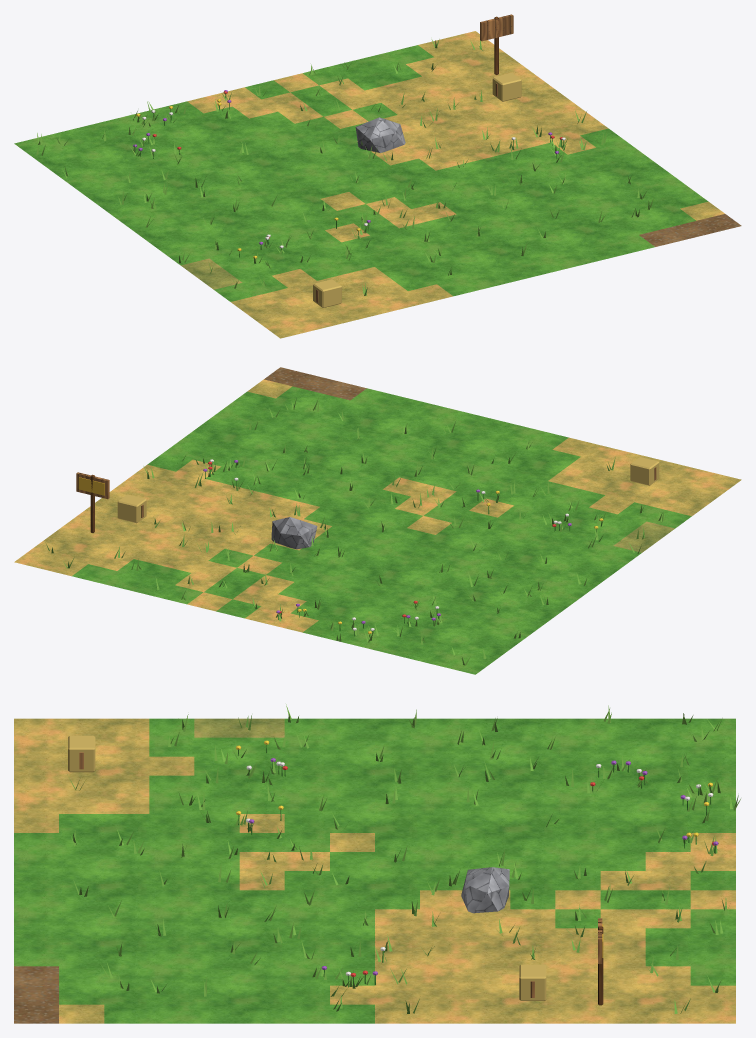
Rendered from chunk_8_10.glb.
The picture shows the model from 3 angles, top to bottom: view 1: azimuth 30°, elevation 25°; view 2: azimuth 150°, elevation 25°; view 3: azimuth 270°, elevation 25°; orthographic projection. The views are drawn at different scales.
Parts seen in each view (by area): view 1: chunk_8_10; view 2: chunk_8_10; view 3: chunk_8_10.
Boxes of the visible parts, box(x1,y1,x2,y2) form: chunk_8_10: box(14, 14, 741, 338); chunk_8_10: box(14, 367, 741, 674); chunk_8_10: box(14, 704, 740, 1023).
Size of the model in its own units: 16.03 by 2.4 by 16.13.
Materials: 15 (8 with a texture image).
